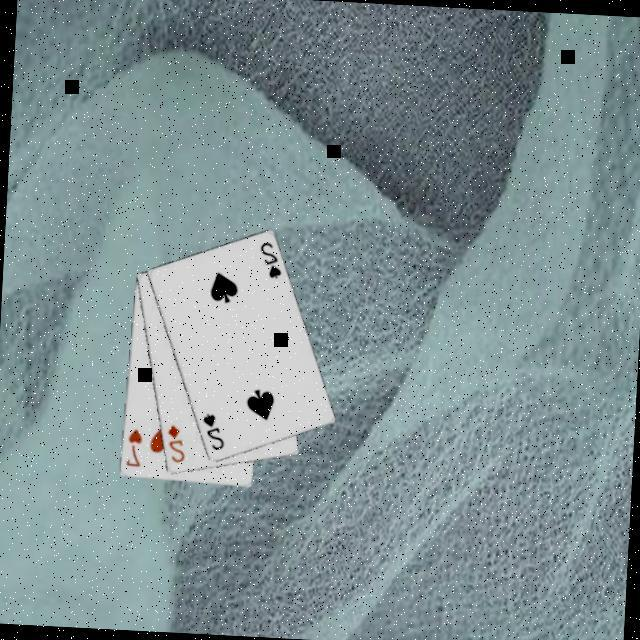2D: (161, 423, 187, 467)
2S: (196, 411, 226, 454), (254, 240, 284, 283)
7H: (121, 426, 143, 471)
